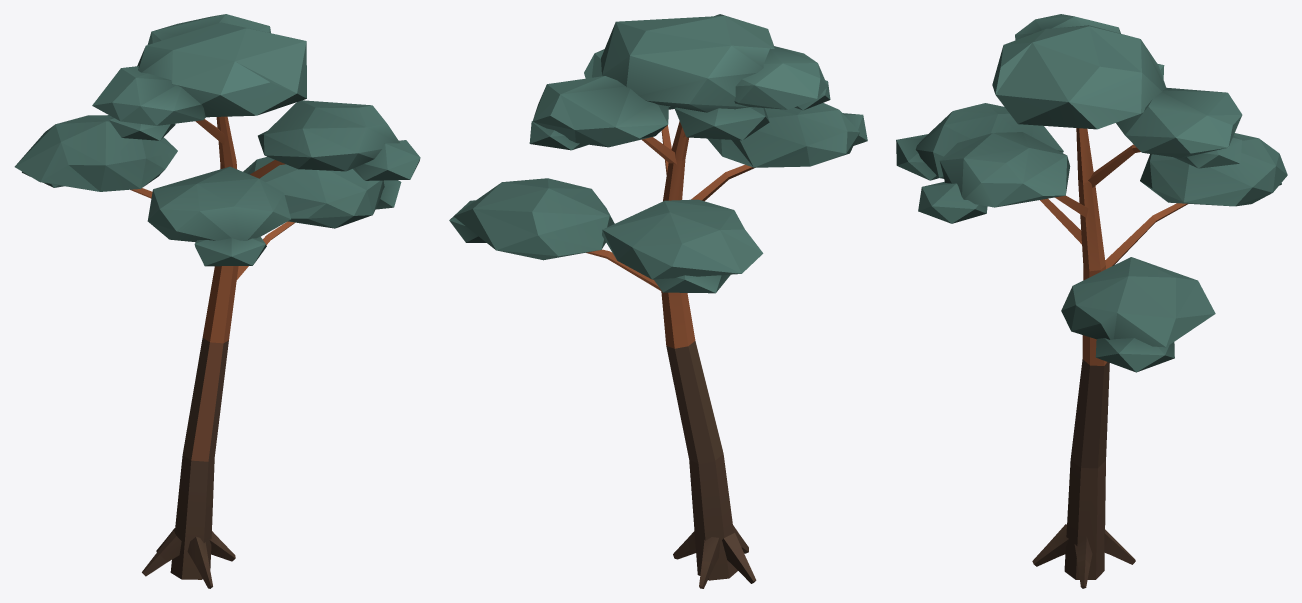
The model's file is tree_big_pine_low.glb.
3 renders of one model, left to right at view 1: azimuth 30°, elevation 25°; view 2: azimuth 150°, elevation 25°; view 3: azimuth 270°, elevation 25°, orthographic. The views are drawn at different scales.
Bounding box in the file's own units: 8.64 × 13.05 × 8.58.
